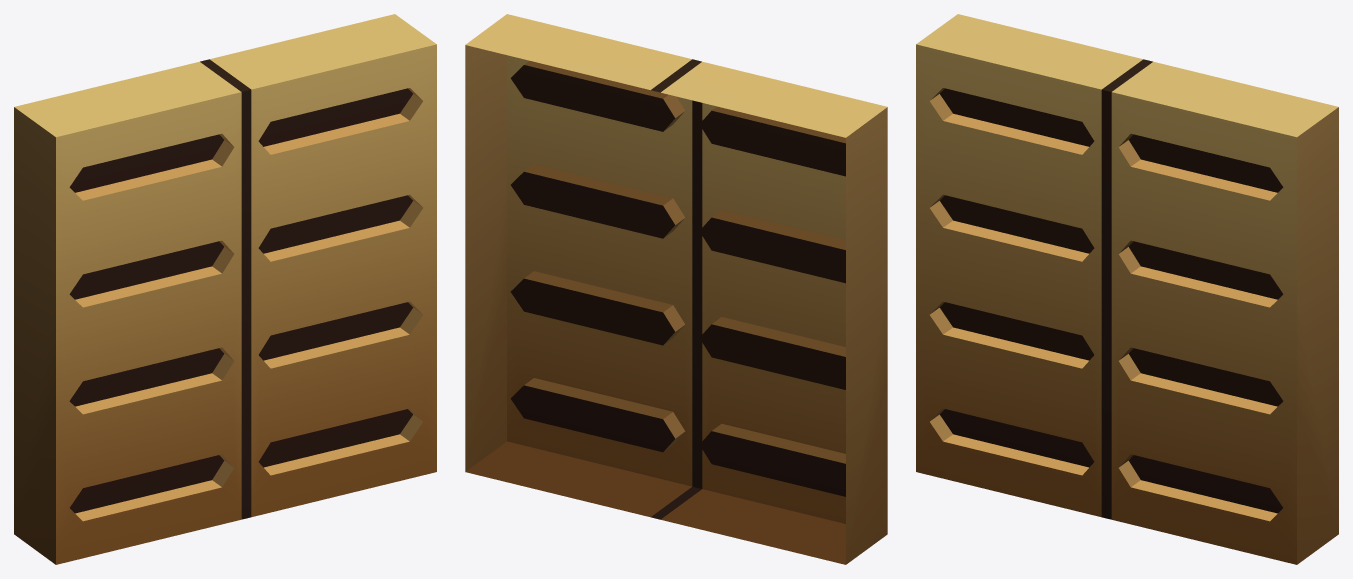
File: Window_03A.fbx
The picture shows the model from 3 angles, left to right: view 1: azimuth 30°, elevation 25°; view 2: azimuth 150°, elevation 25°; view 3: azimuth 330°, elevation 25°; orthographic projection.
Visible parts, largest first — view 1: Window_03A; view 2: Window_03A; view 3: Window_03A.
Part boxes in pixels (<box>): Window_03A: <box>14,14,436,564</box>; Window_03A: <box>465,14,887,564</box>; Window_03A: <box>916,14,1338,564</box>.
Bounding box in the file's own units: 99.83 × 107 × 19.02.
1 material, 1 textured.
